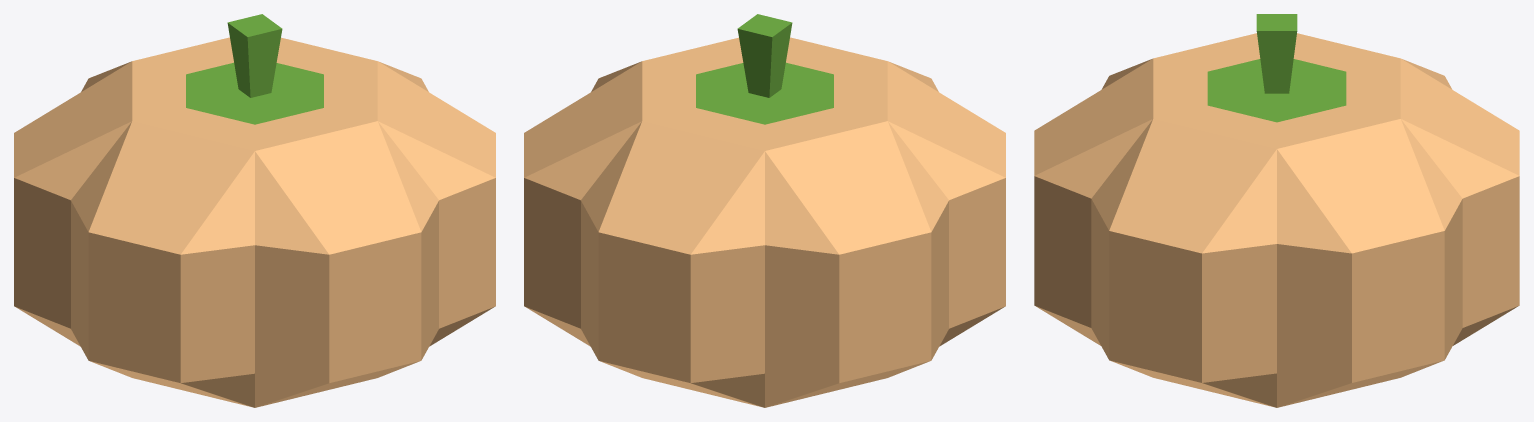
File: crop_pumpkin.glb
3 renders of one model, left to right at view 1: azimuth 30°, elevation 25°; view 2: azimuth 150°, elevation 25°; view 3: azimuth 270°, elevation 25°, orthographic.
Parts seen in each view (by area): view 1: crop_pumpkin; view 2: crop_pumpkin; view 3: crop_pumpkin.
Part boxes in pixels (x1,y1,x2,y2): crop_pumpkin: (14,14,495,407); crop_pumpkin: (524,14,1005,407); crop_pumpkin: (1034,14,1519,407).
Size of the model in its own units: 0.4413 by 0.3338 by 0.4519.
